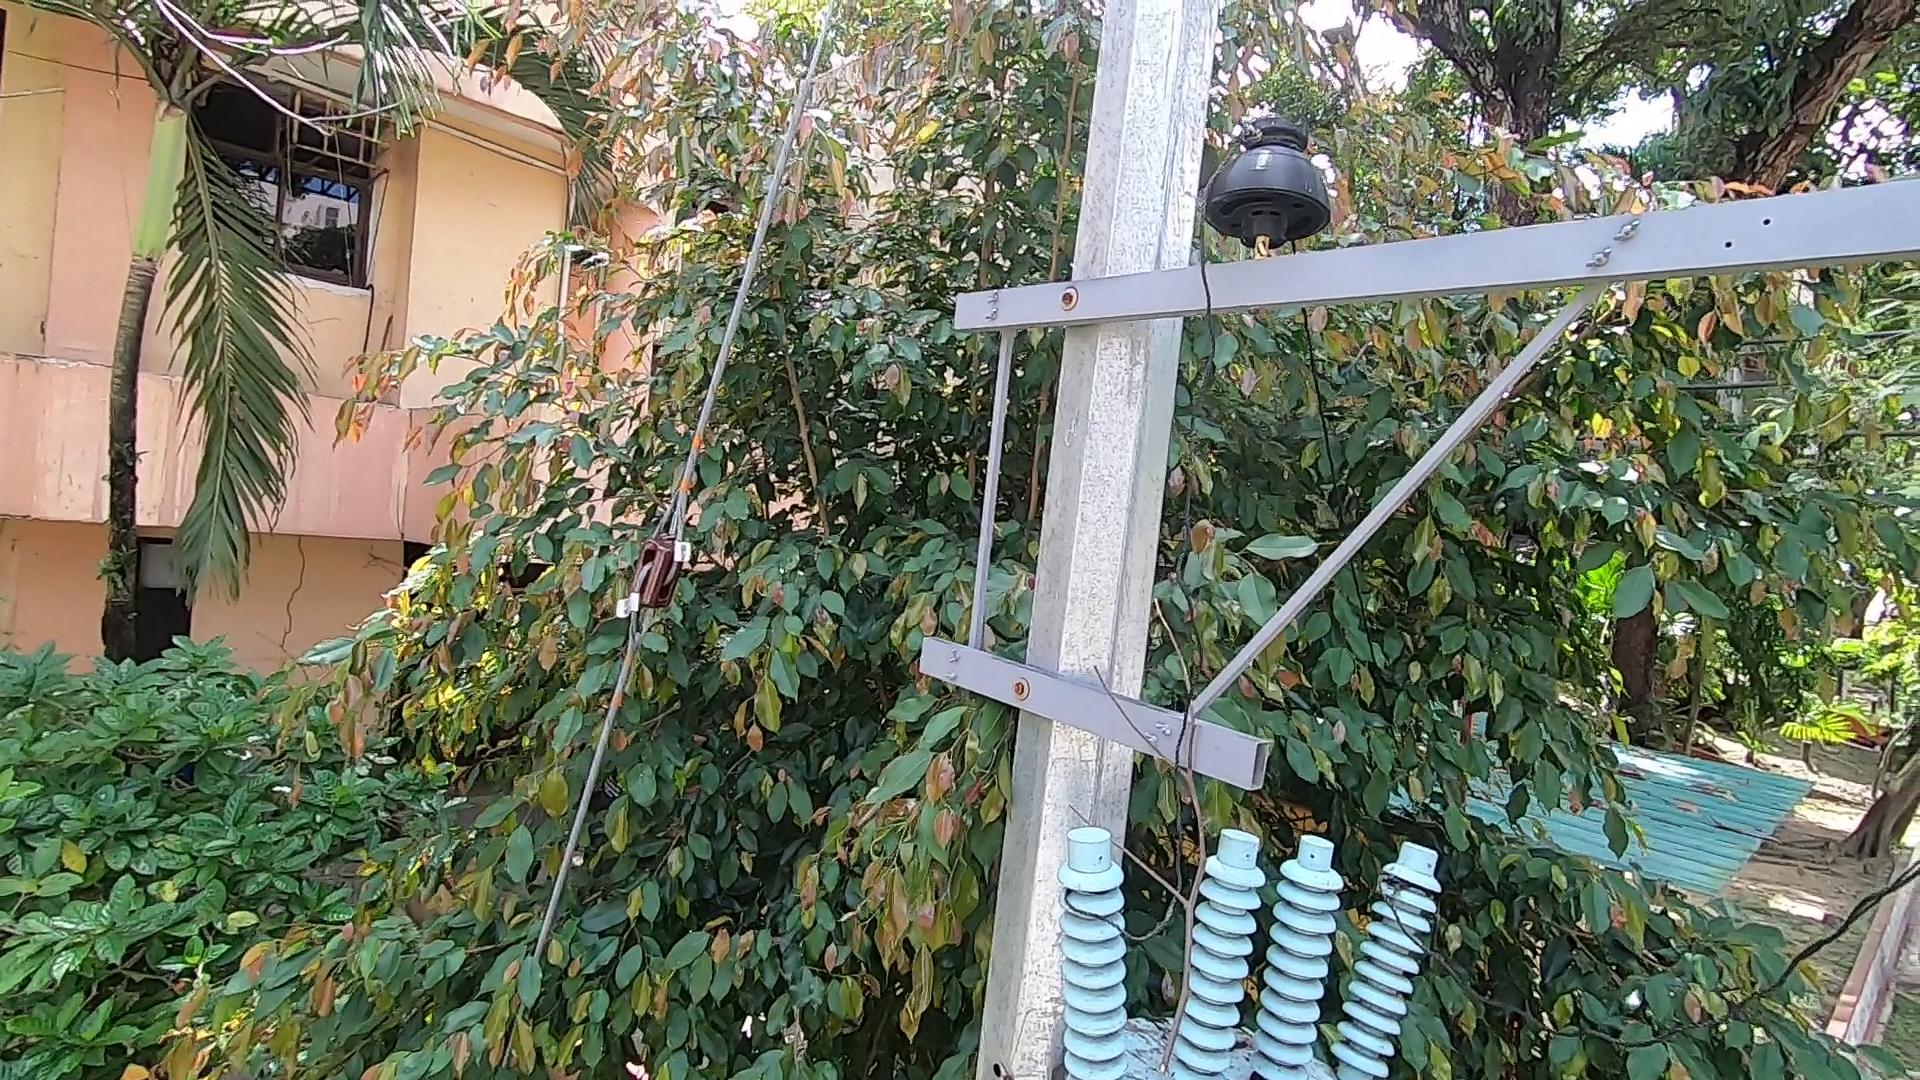tree branch: (1054, 491, 1215, 1077)
